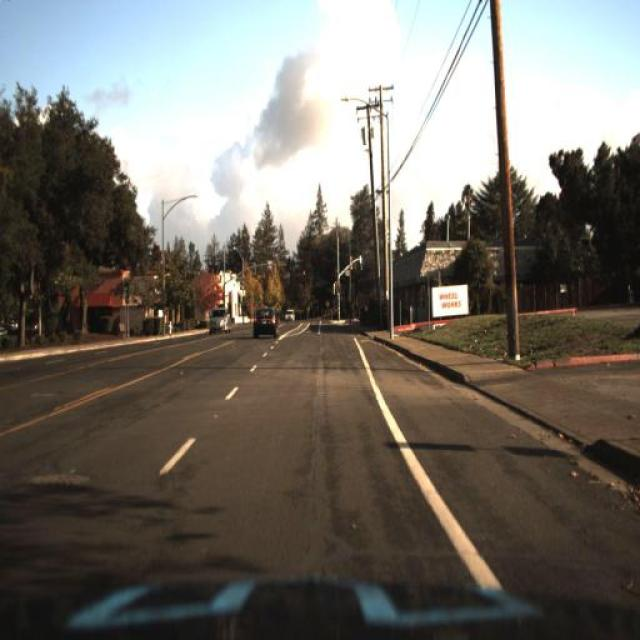car: (249, 304, 281, 342), (204, 303, 232, 338), (282, 308, 296, 328)
trafficLight-RedLeft: (300, 268, 308, 288)
